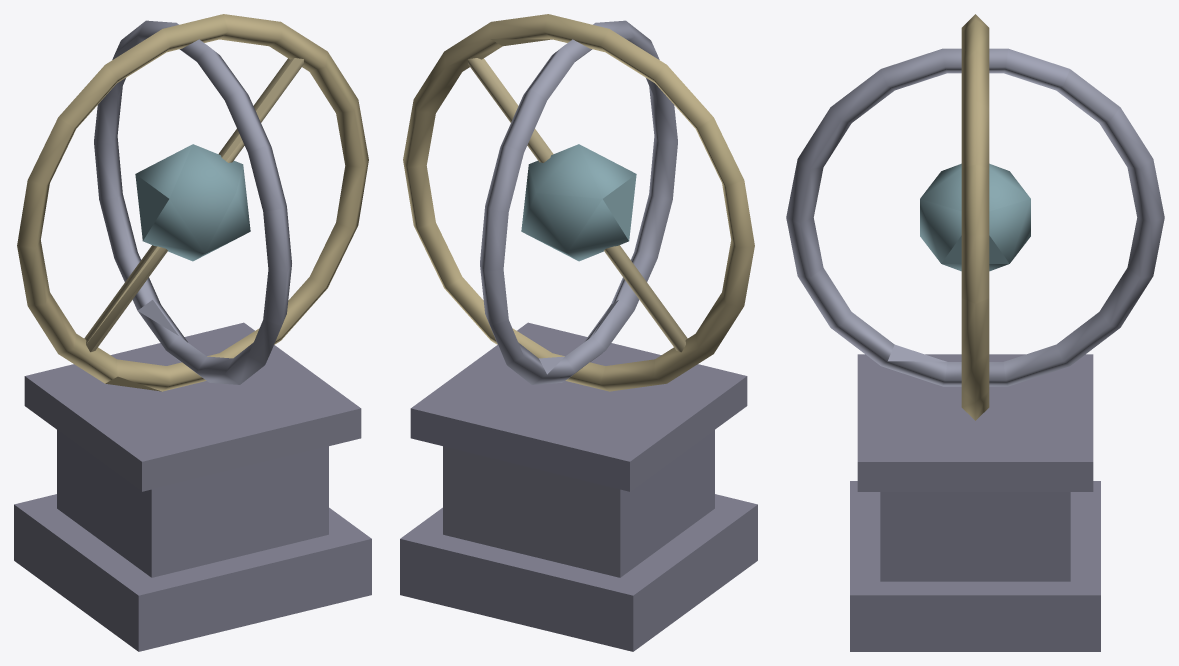
Rendered from map-exclusive-v3__highland_01.glb.
The picture shows the model from 3 angles, left to right: view 1: azimuth 30°, elevation 25°; view 2: azimuth 150°, elevation 25°; view 3: azimuth 270°, elevation 25°; orthographic projection.
Parts seen in each view (by area): view 1: highland_01; view 2: highland_01; view 3: highland_01.
Boxes of the visible parts, x1=… form: highland_01: x1=14, y1=14, x2=371, y2=651; highland_01: x1=400, y1=14, x2=757, y2=651; highland_01: x1=786, y1=14, x2=1164, y2=651.
Bounding box in the file's own units: 1.63 × 2.46 × 1.51.
